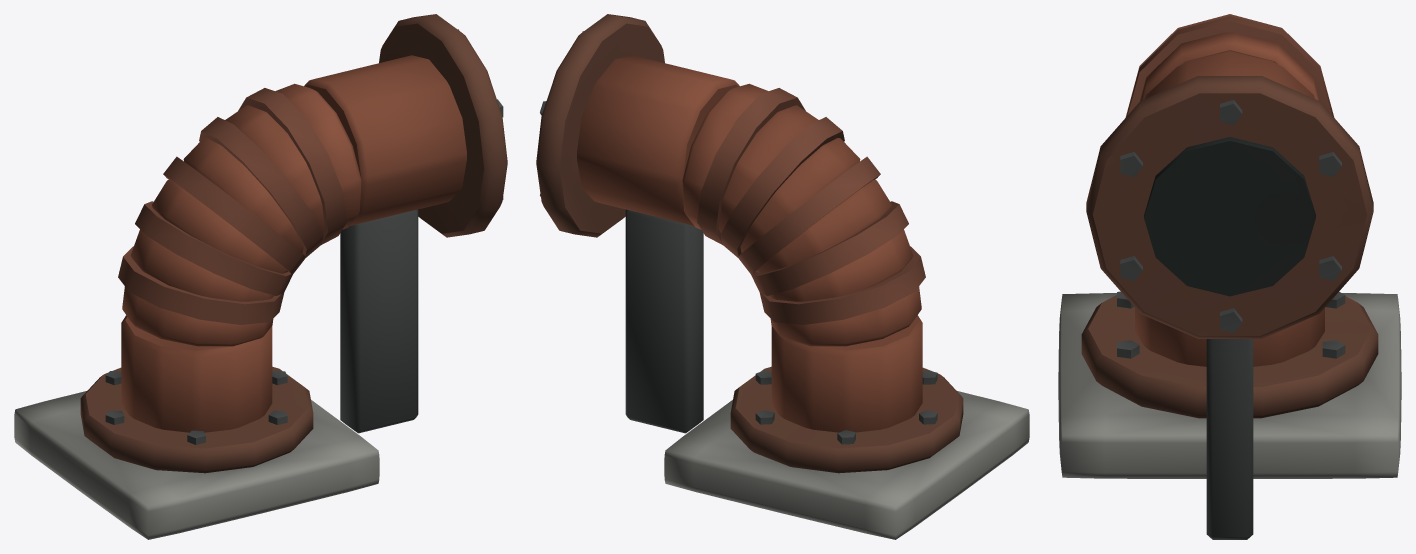
Rendered from pump_elbow_a.glb.
3 renders of one model, left to right at view 1: azimuth 30°, elevation 25°; view 2: azimuth 150°, elevation 25°; view 3: azimuth 270°, elevation 25°, orthographic. The views are drawn at different scales.
Visible parts, largest first — view 1: Surface; view 2: Surface; view 3: Surface.
Boxes of the visible parts, left/top/right/bottom form: Surface: left=14, top=14, right=507, bottom=539; Surface: left=536, top=14, right=1029, bottom=539; Surface: left=1058, top=14, right=1401, bottom=539.
Bounding box in the file's own units: 3.55 × 3.4 × 2.2.
